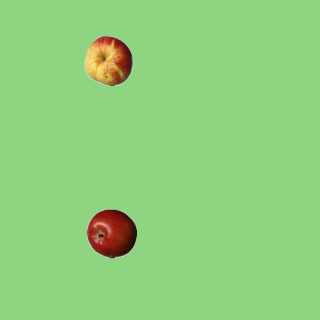Apple Braeburn: (86, 208, 136, 258)
Apple Red Yellow 1: (83, 35, 133, 85)
